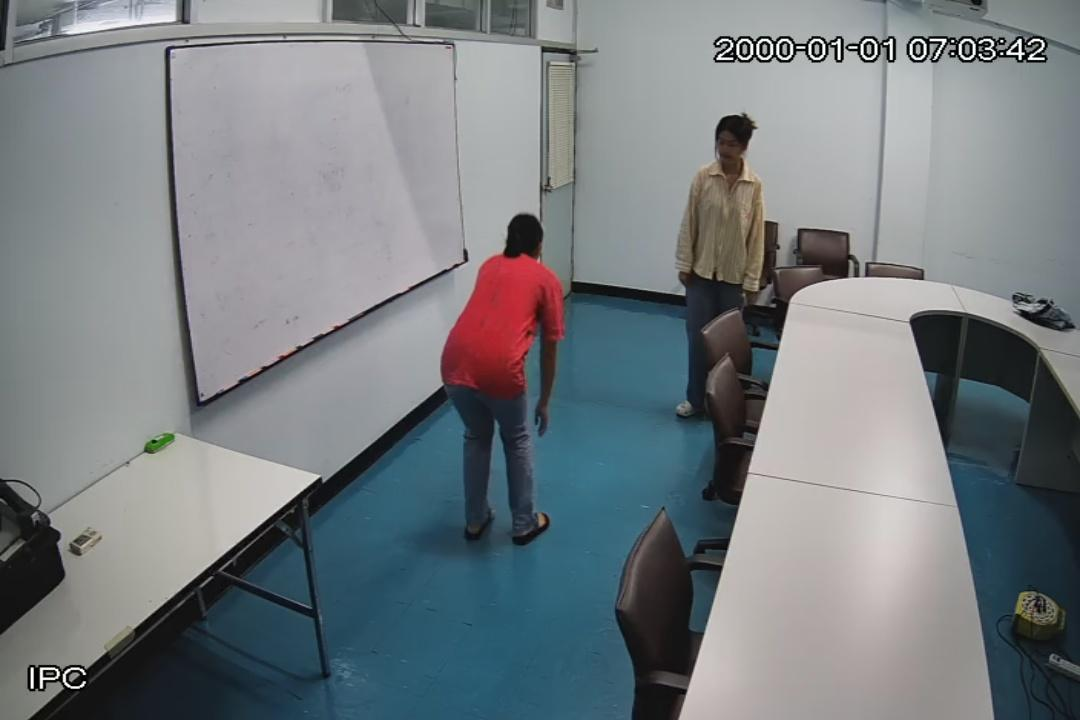normal: (438, 208, 554, 542), (668, 104, 778, 440)
